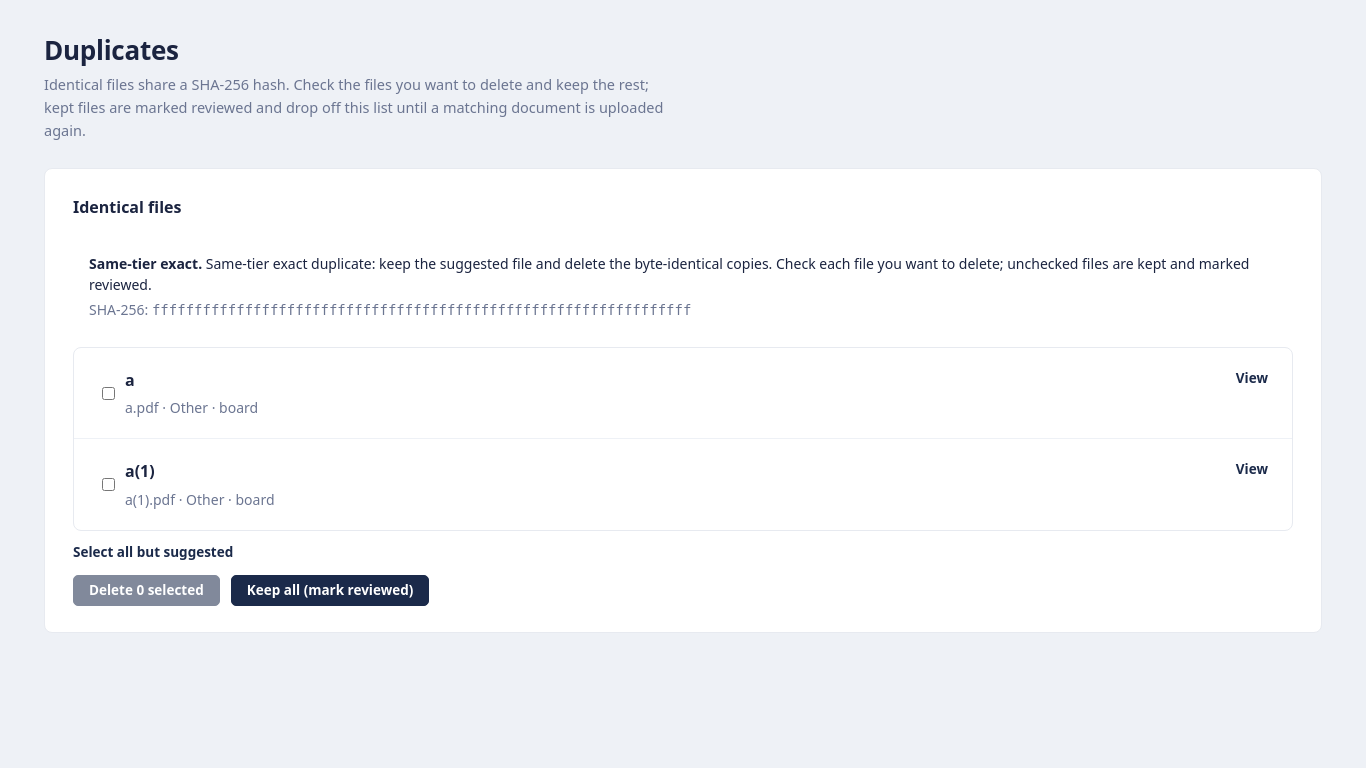
it: DuplicatesManager › prevents deleting every file in a group
Click the checkbox labelled "a a.pdf · Other · board": (108, 393) [102,386,115,400]
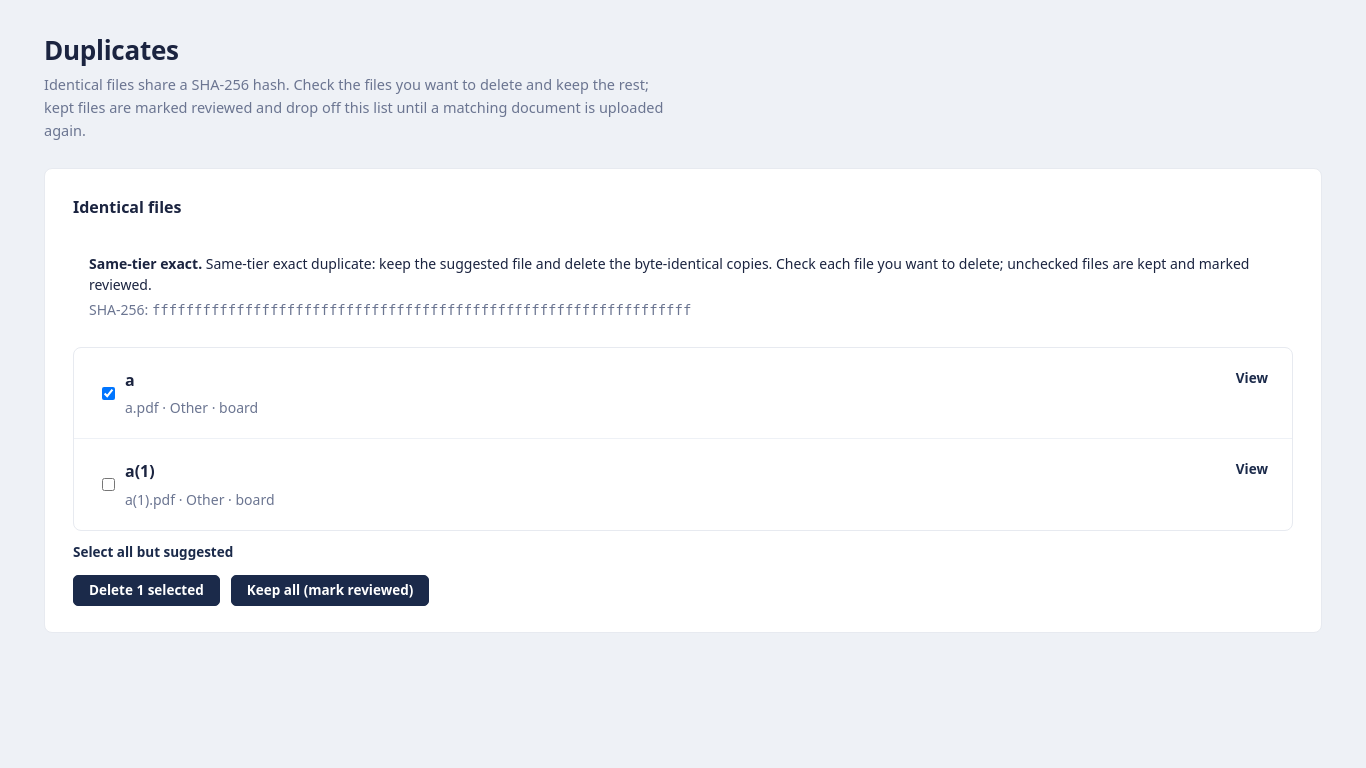
Click the checkbox labelled "a(1) a(1).pdf · Other · board": (108, 485) [102,478,115,491]
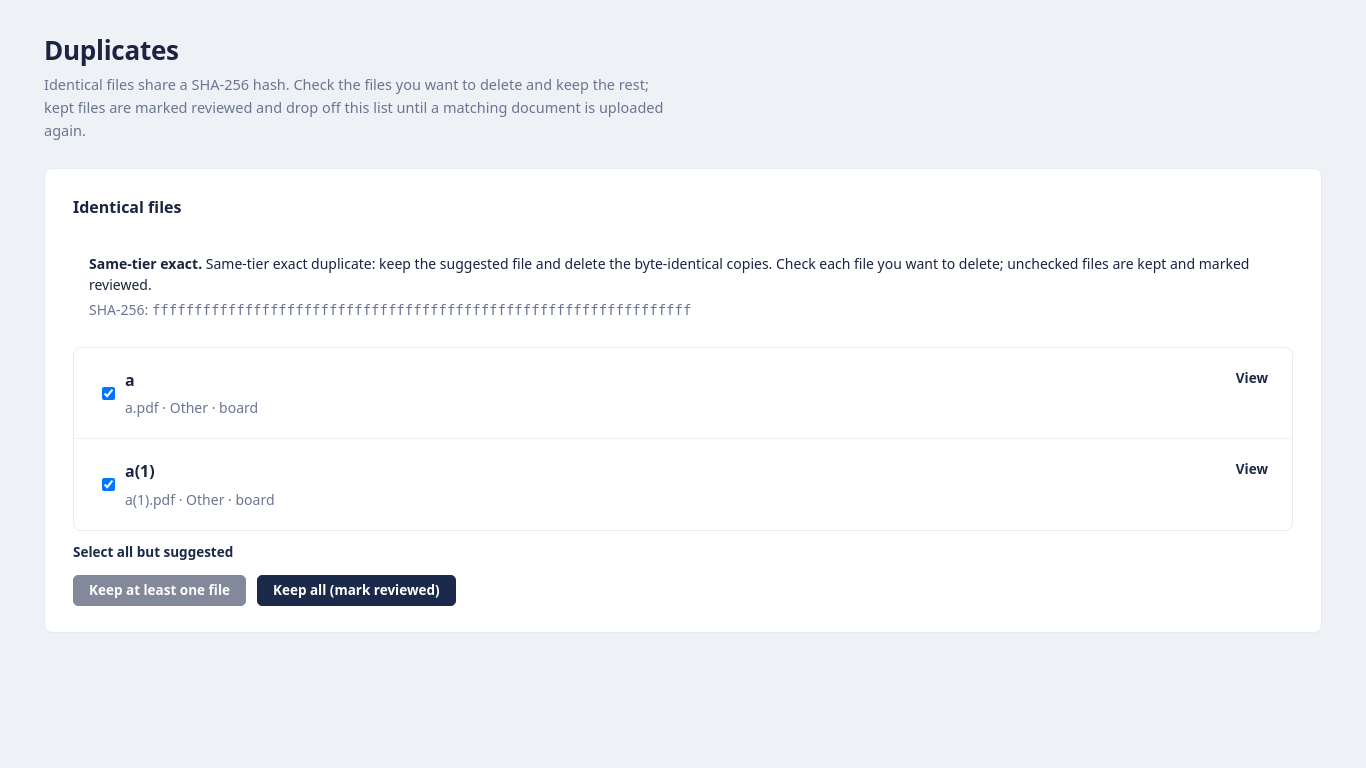
expect the button "Keep at least one file" is disabled: met, box [73,574,246,606]
